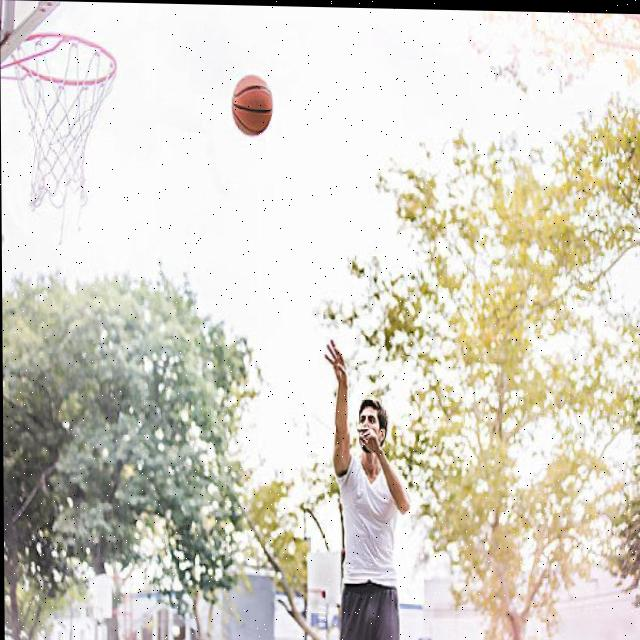basketball: (233, 74, 274, 137)
hoop: (12, 31, 119, 207)
